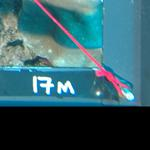alive: (1, 1, 149, 104)
